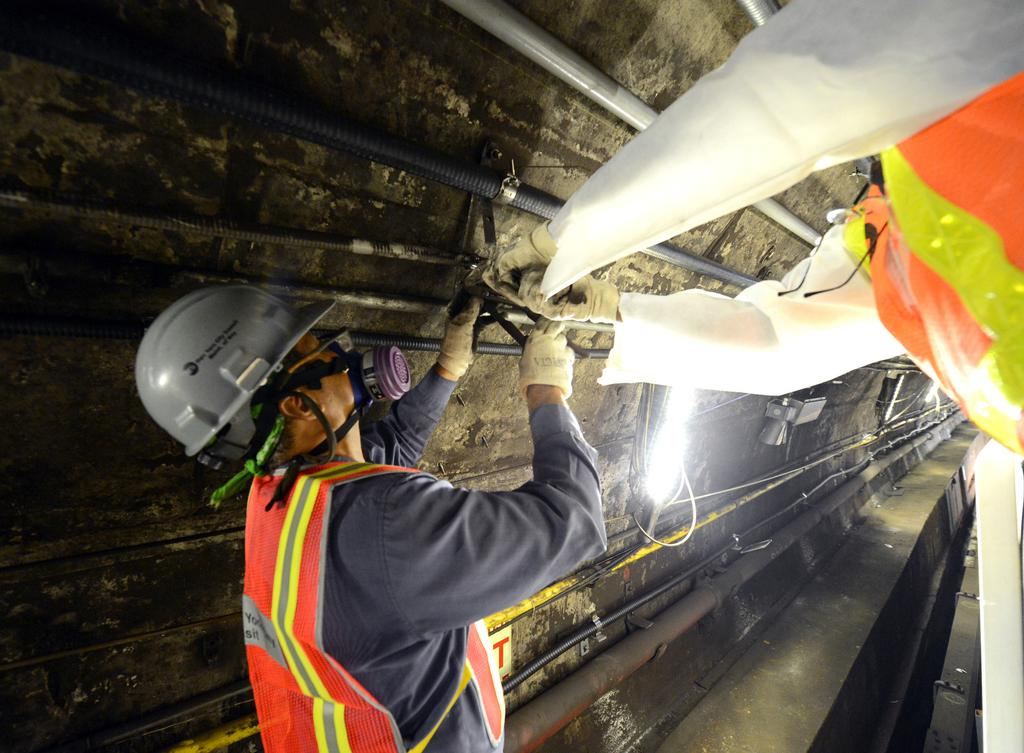helmet: (134, 282, 366, 457)
